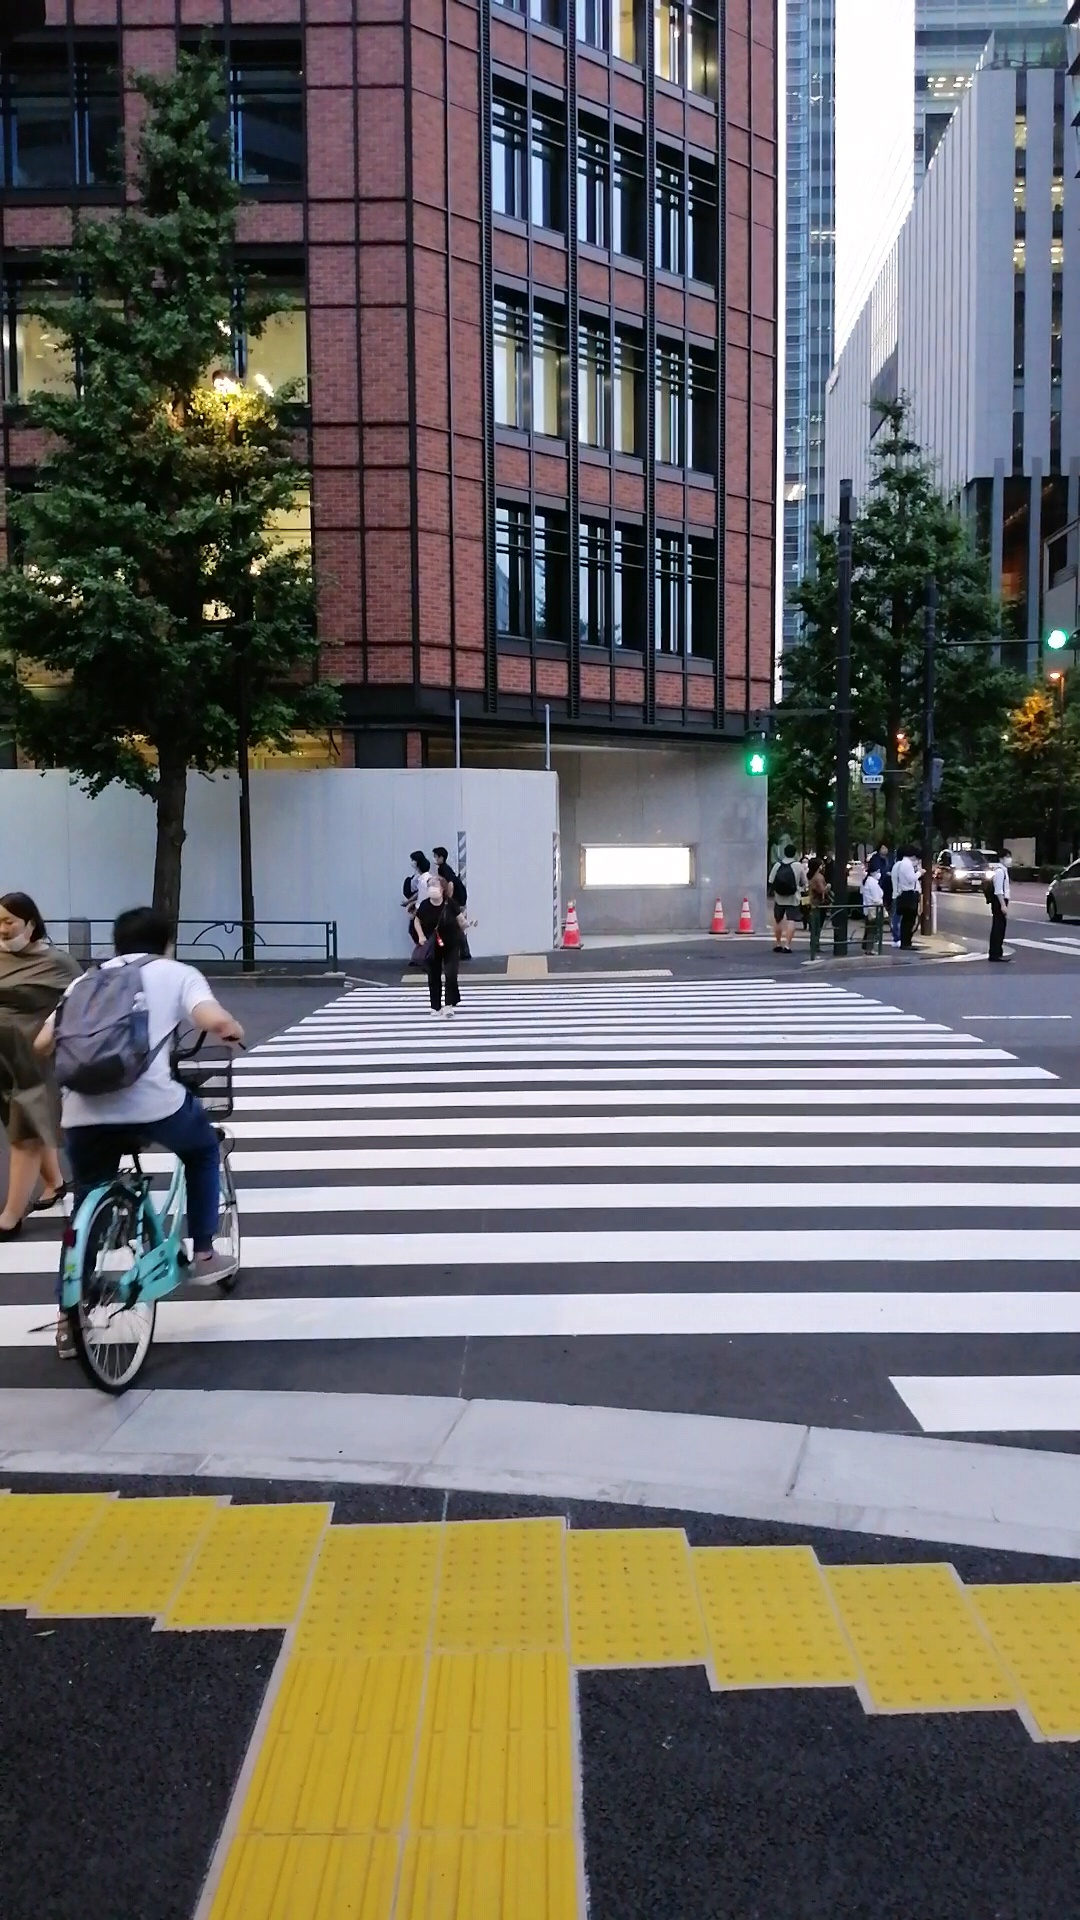green: (744, 729, 771, 775)
